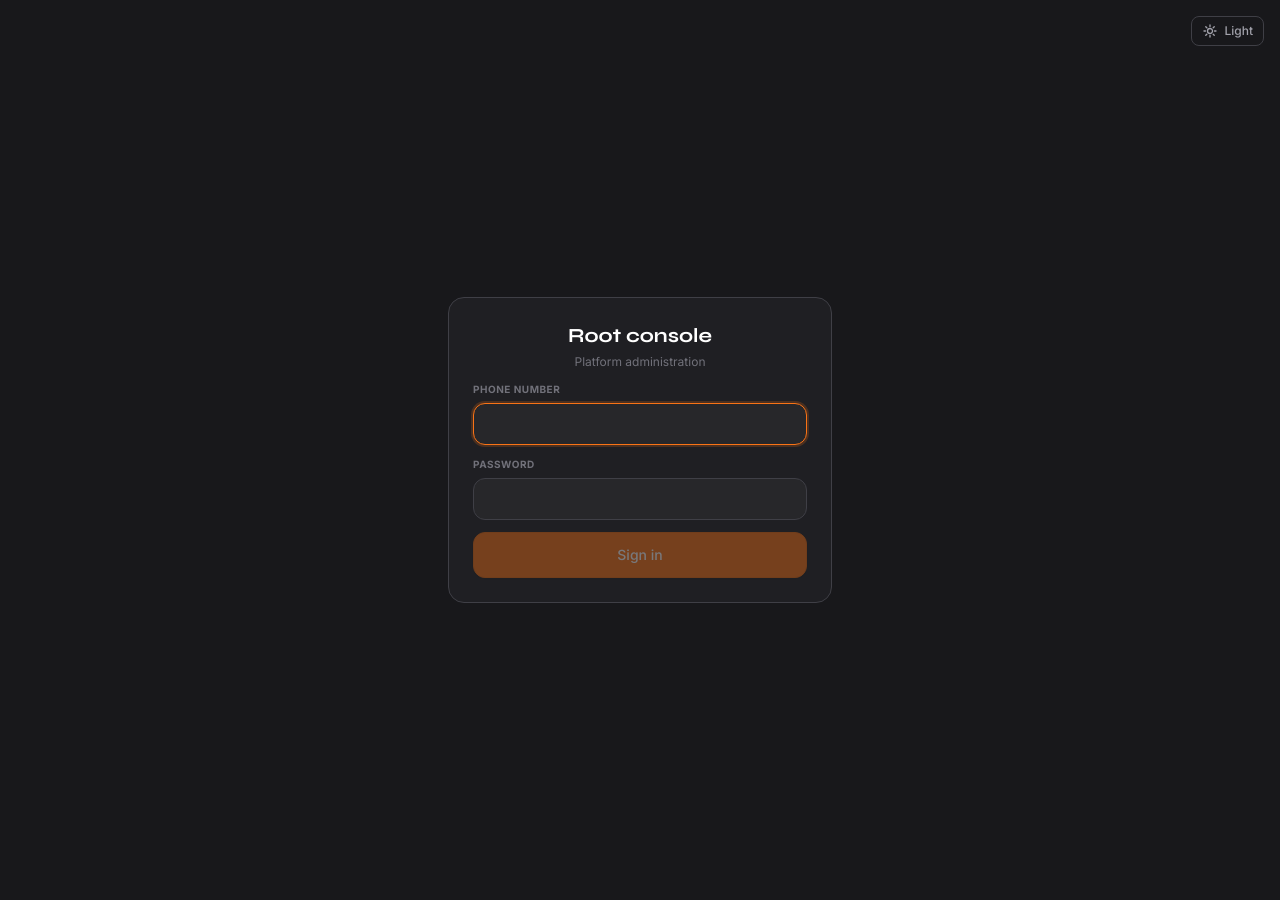
Test: signed out: shows the login, a wrong password shows the server text, a right one opens the console
Step 1. Type "9999900000" into the field labelled "Phone number" → (640, 424), box [473,403,807,445]
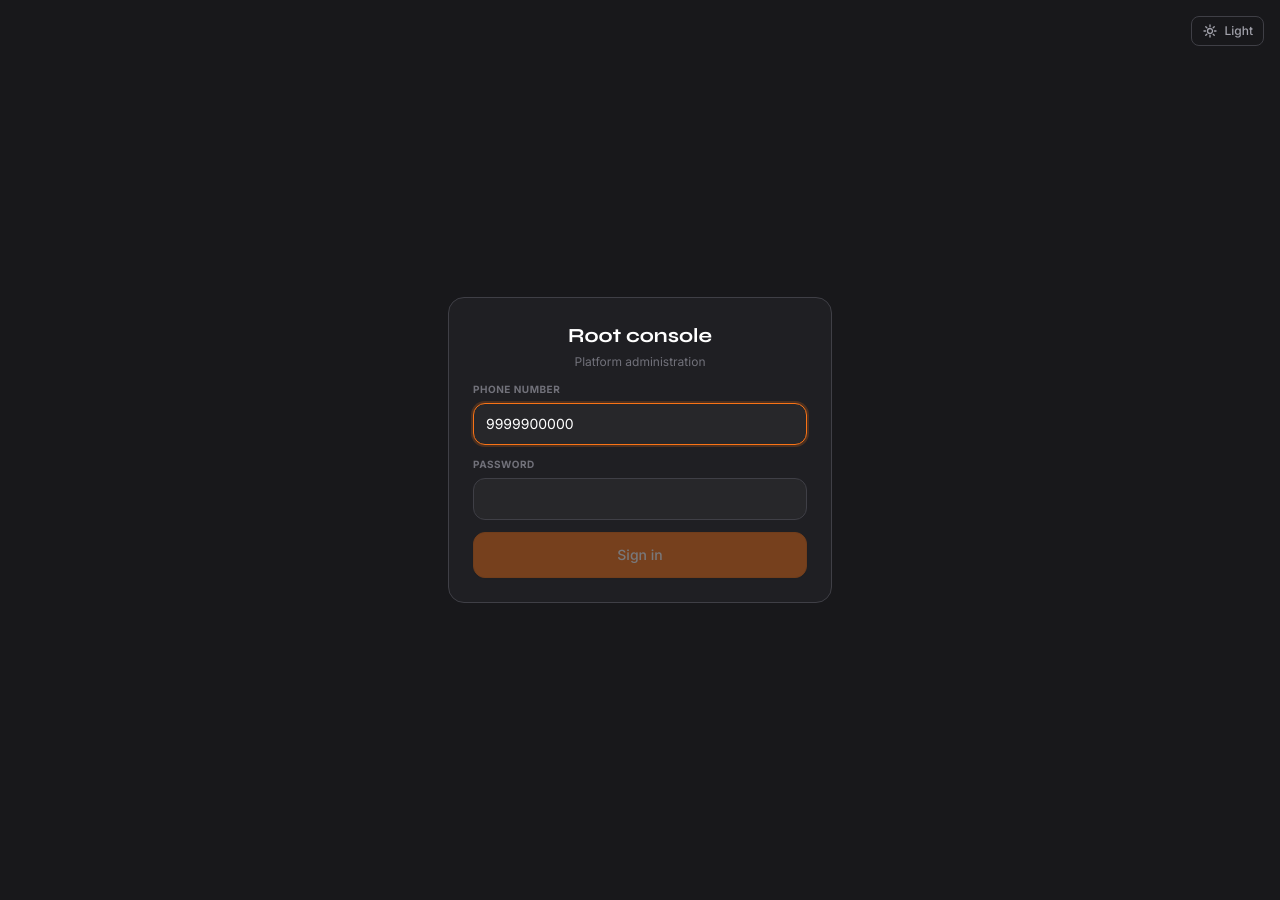
Step 2. Type "nope" into the password field labelled "Password" → (640, 499), box [473,478,807,520]
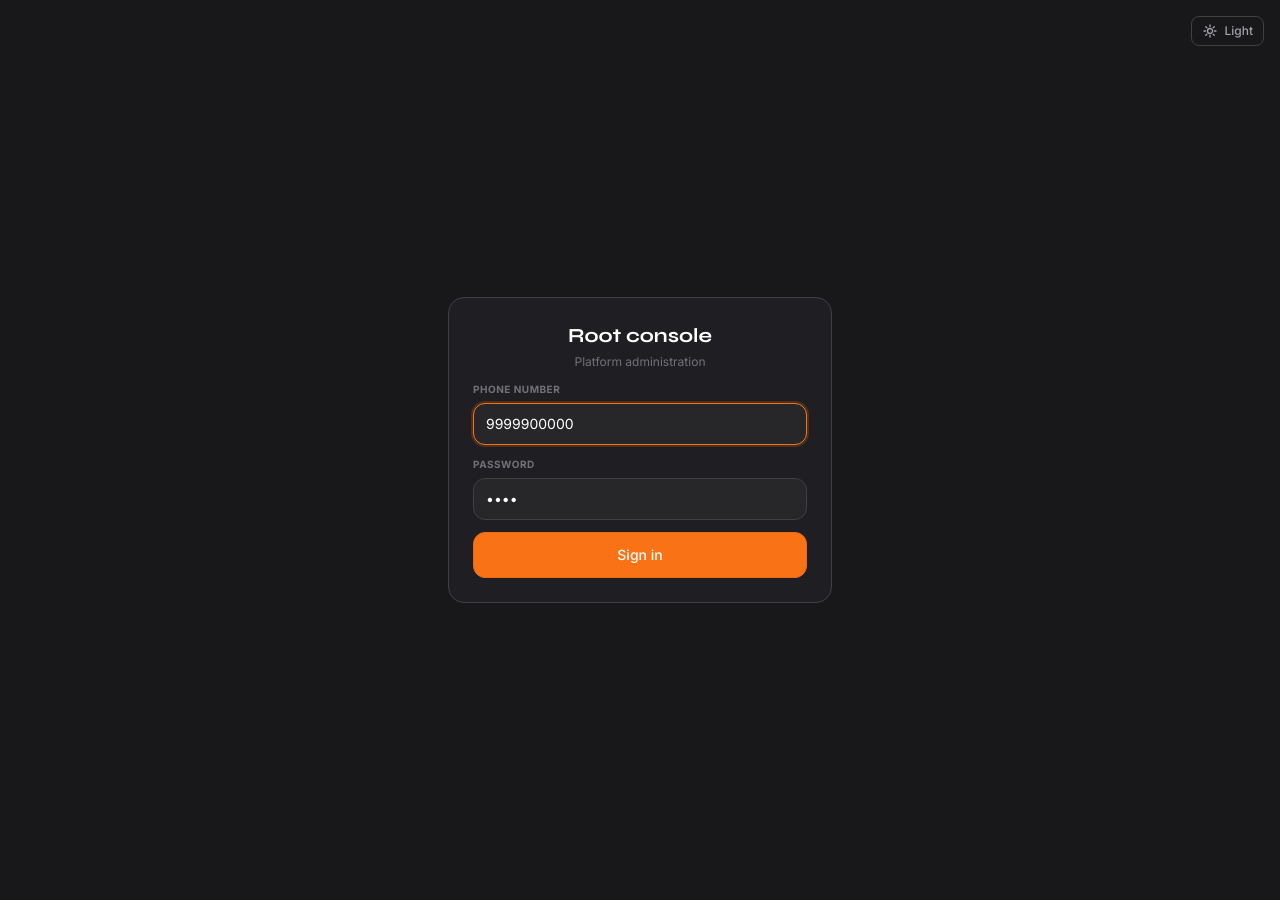
Step 3. Click the button "Sign in" → (640, 555), box [473,532,807,578]
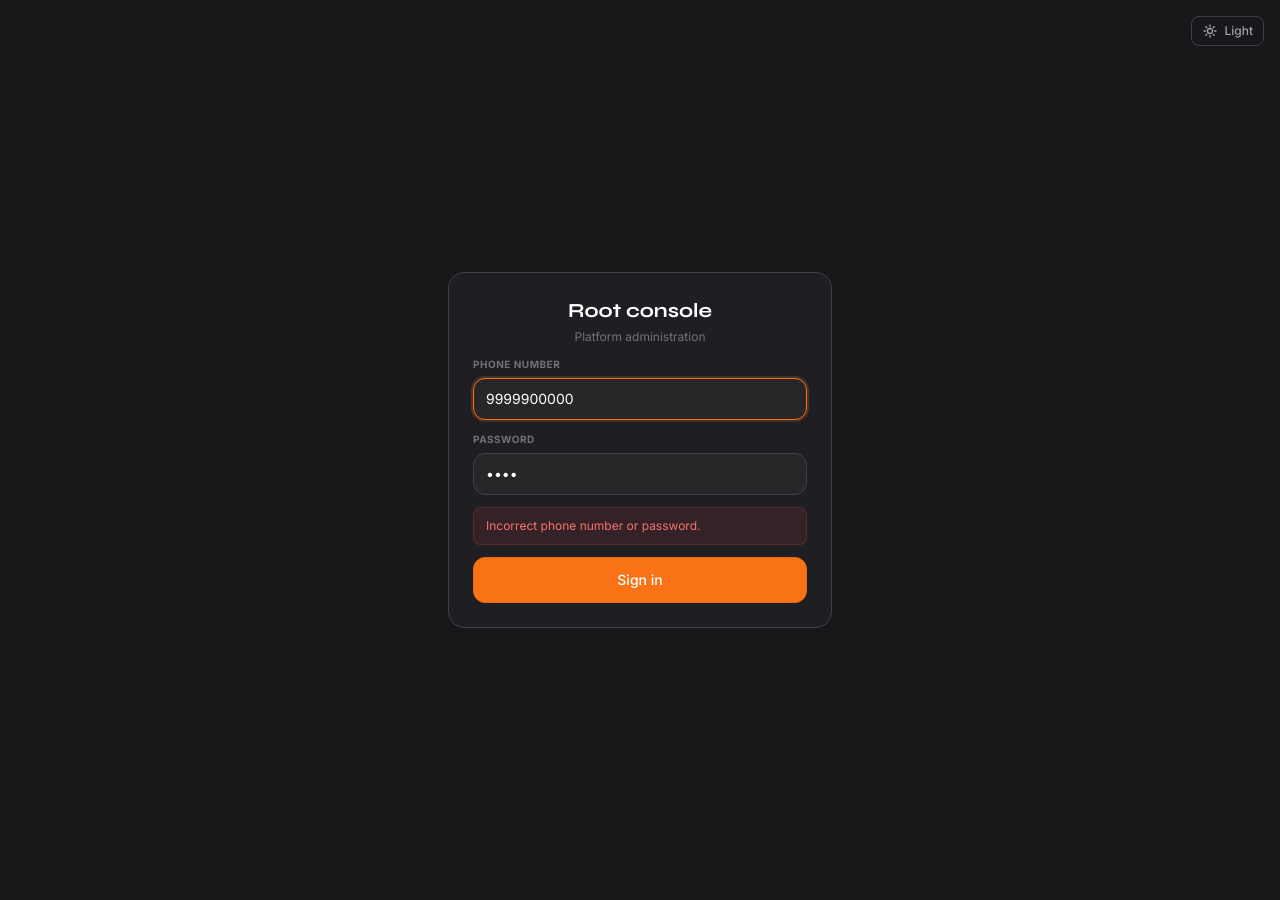
Check: the message reads "Incorrect phone number or password.", box [486,518,700,533]
Step 4. Type "rootpassword1" into the password field labelled "Password" → (640, 474), box [473,453,807,495]
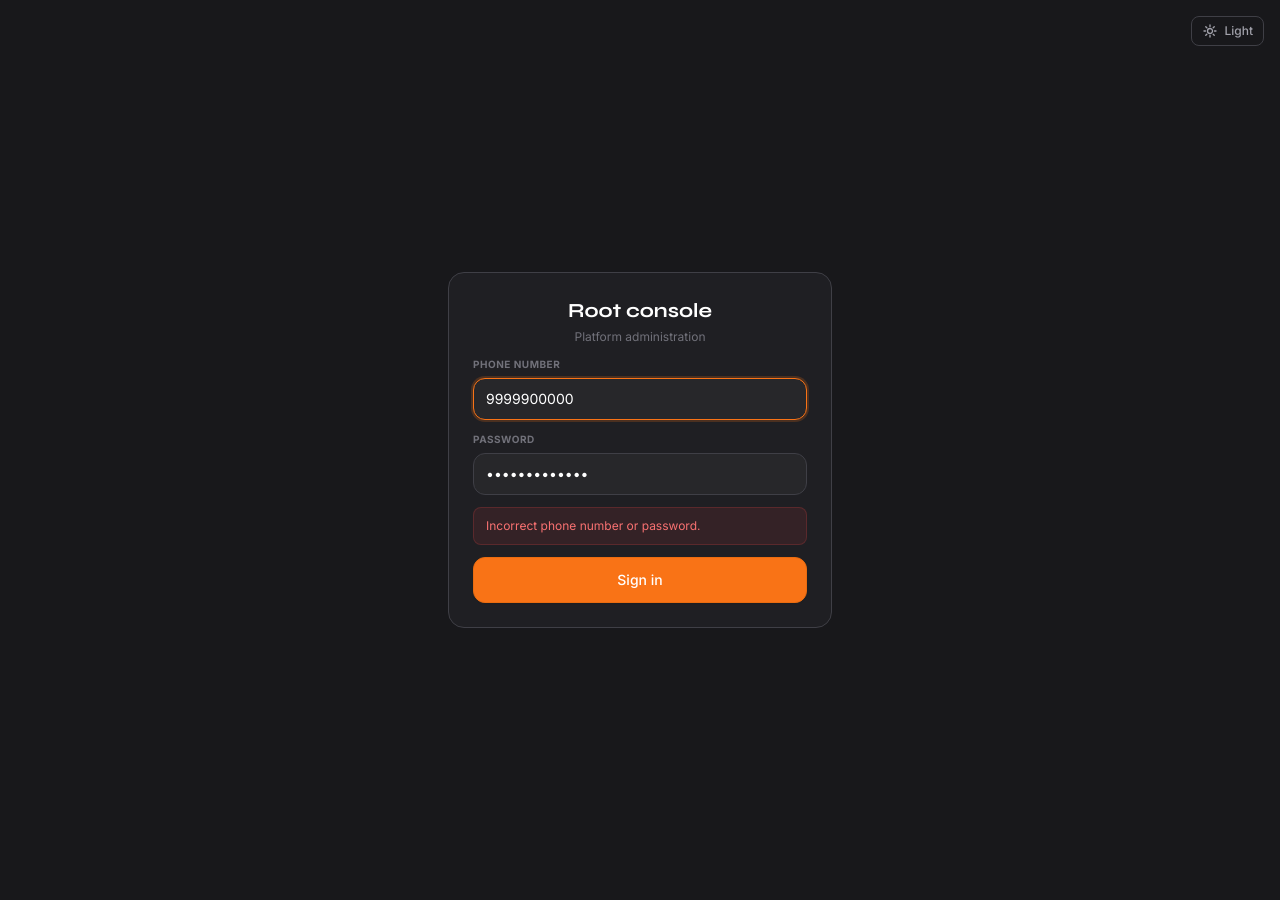
Step 5. Click the button "Sign in" → (640, 580), box [473,557,807,603]
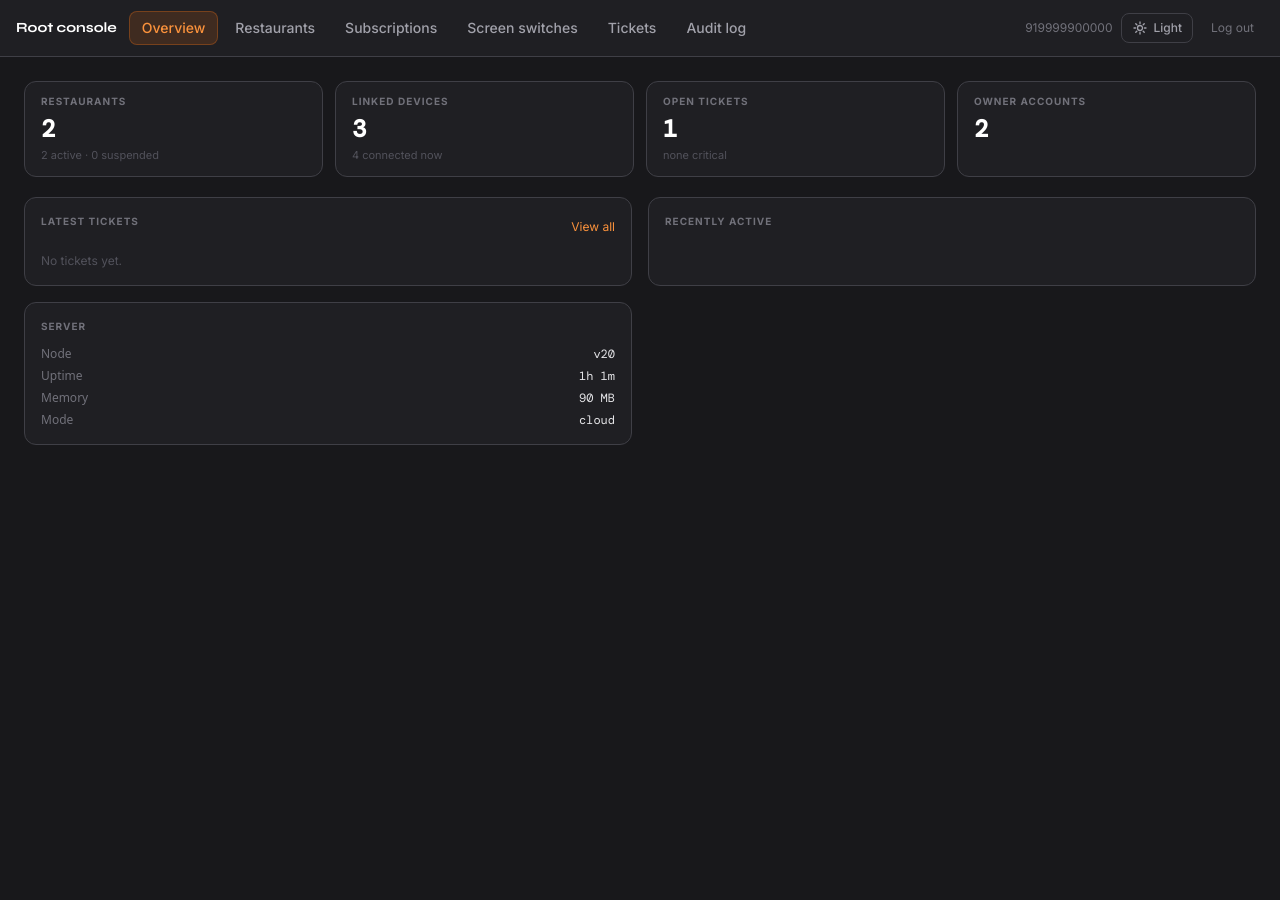
Check: the button "Restaurants" is shown, box [222,11,328,45]
Check: the text "1h 1m" is shown, box [579,368,615,384]
